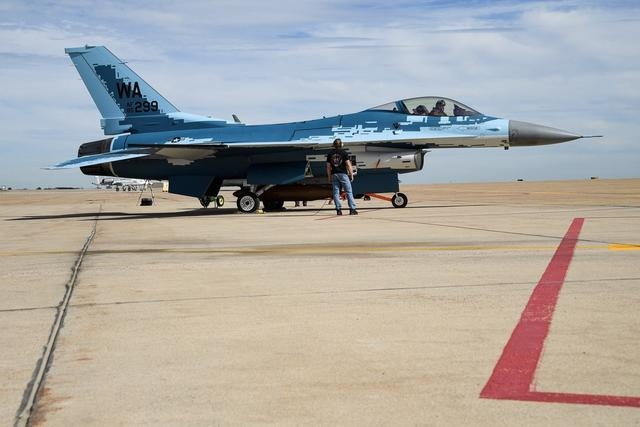airplane: (38, 37, 605, 215)
person: (325, 132, 361, 217)
